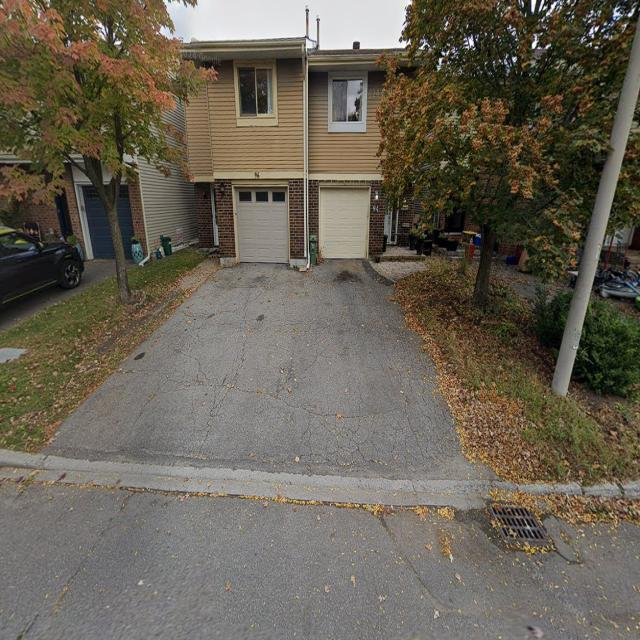Door: (384, 186, 414, 248)
curb: (0, 449, 638, 510)
obstacle: (549, 53, 639, 406), (0, 224, 86, 326), (89, 178, 141, 304), (470, 221, 500, 308)
walkways: (39, 261, 516, 482)
